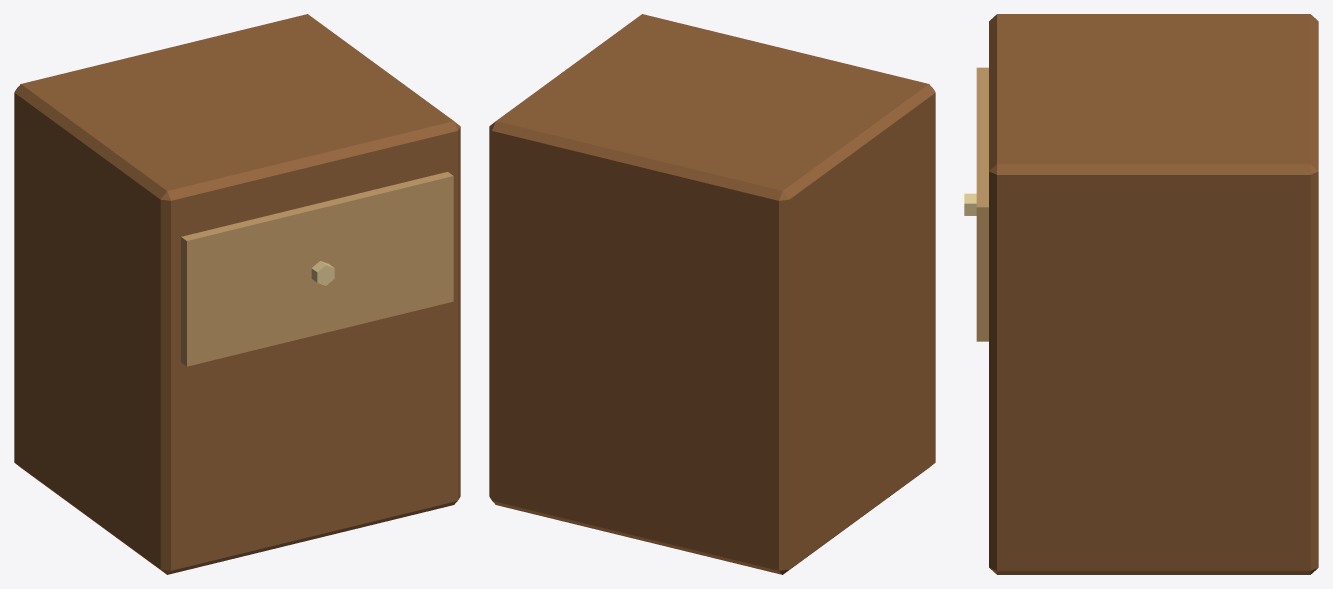
File: nightstand.glb
3 renders of one model, left to right at view 1: azimuth 30°, elevation 25°; view 2: azimuth 150°, elevation 25°; view 3: azimuth 270°, elevation 25°, orthographic. The views are drawn at different scales.
Parts seen in each view (by area): view 1: nightstand; view 2: nightstand; view 3: nightstand.
Boxes of the visible parts, <box> form: nightstand: <box>14,14,460,574</box>; nightstand: <box>489,14,935,574</box>; nightstand: <box>964,14,1318,574</box>.
Size of the model in its own units: 0.45 by 0.55 by 0.43.
